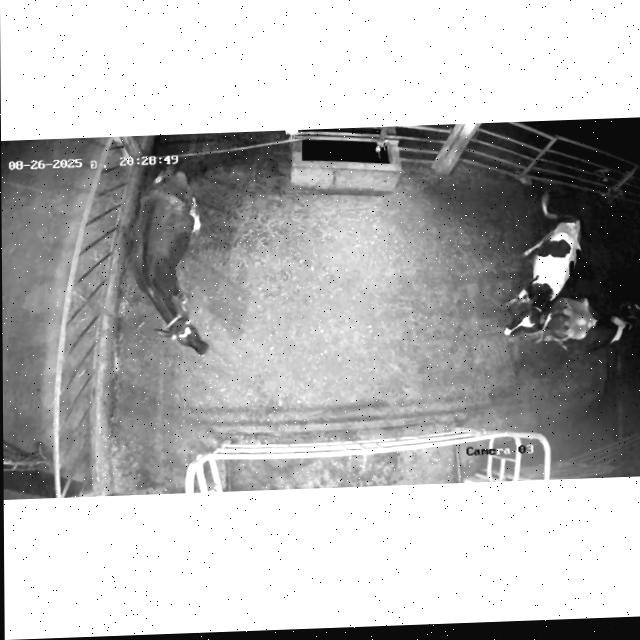stand: (110, 156, 222, 366), (494, 188, 584, 342), (551, 287, 640, 350)
